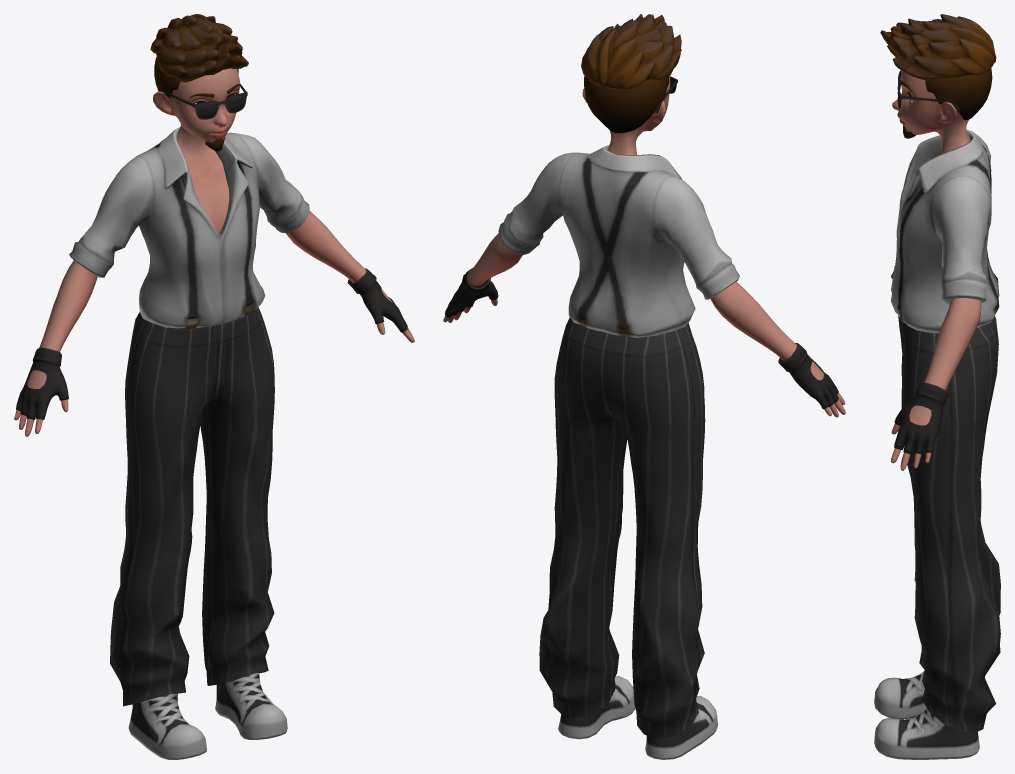
The model's file is BarmenBoy_Mesh.obj.
The picture shows the model from 3 angles, left to right: view 1: azimuth 30°, elevation 25°; view 2: azimuth 150°, elevation 25°; view 3: azimuth 270°, elevation 25°; orthographic projection.
Parts seen in each view (by area): view 1: BarmenBoy_Mesh_0; view 2: BarmenBoy_Mesh_0; view 3: BarmenBoy_Mesh_0.
Boxes of the visible parts, box(x1,y1,x2,y2) form: BarmenBoy_Mesh_0: box(14, 14, 414, 759); BarmenBoy_Mesh_0: box(443, 14, 845, 759); BarmenBoy_Mesh_0: box(874, 14, 1000, 759).
Bounding box in the file's own units: 1.06 × 1.84 × 0.2966.
1 material, 1 textured.
